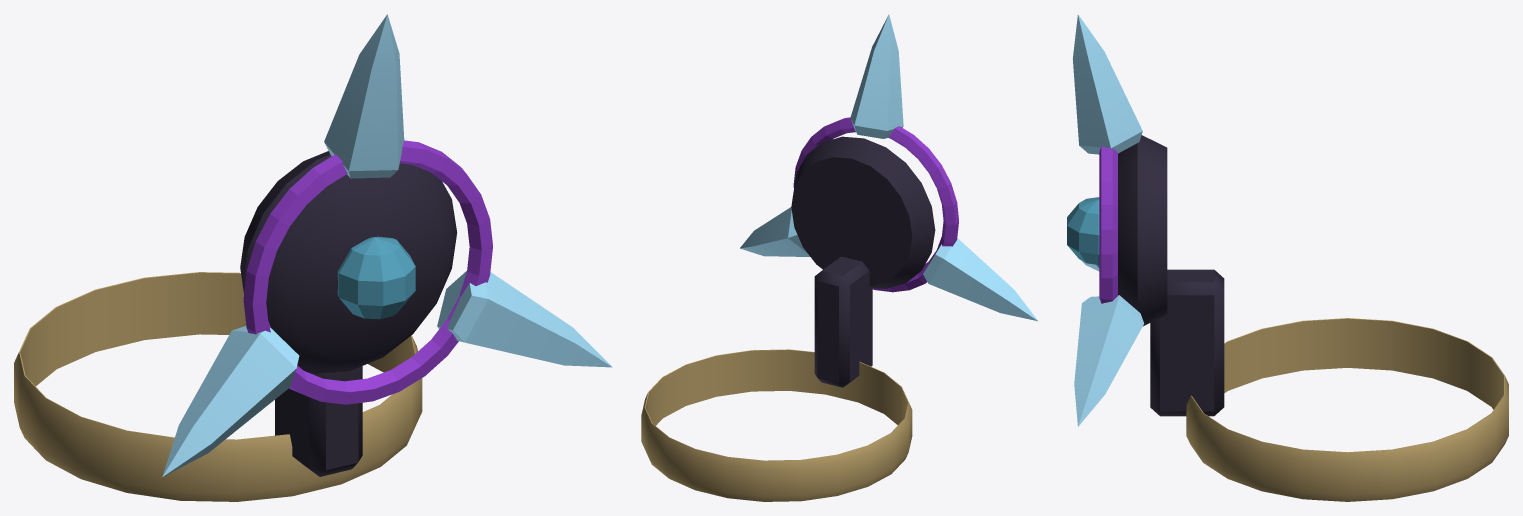
Rendered from Kit_Active_LeagueShield.glb.
The picture shows the model from 3 angles, left to right: view 1: azimuth 30°, elevation 25°; view 2: azimuth 150°, elevation 25°; view 3: azimuth 270°, elevation 25°; orthographic projection. The views are drawn at different scales.
Parts seen in each view (by area): view 1: Kit_Active_LeagueShield; view 2: Kit_Active_LeagueShield; view 3: Kit_Active_LeagueShield.
Part boxes in pixels (x1,y1,x2,y2): Kit_Active_LeagueShield: [14, 14, 612, 501]; Kit_Active_LeagueShield: [641, 14, 1037, 501]; Kit_Active_LeagueShield: [1067, 14, 1508, 501].
Size of the model in its own units: 0.168 by 0.1881 by 0.179.
